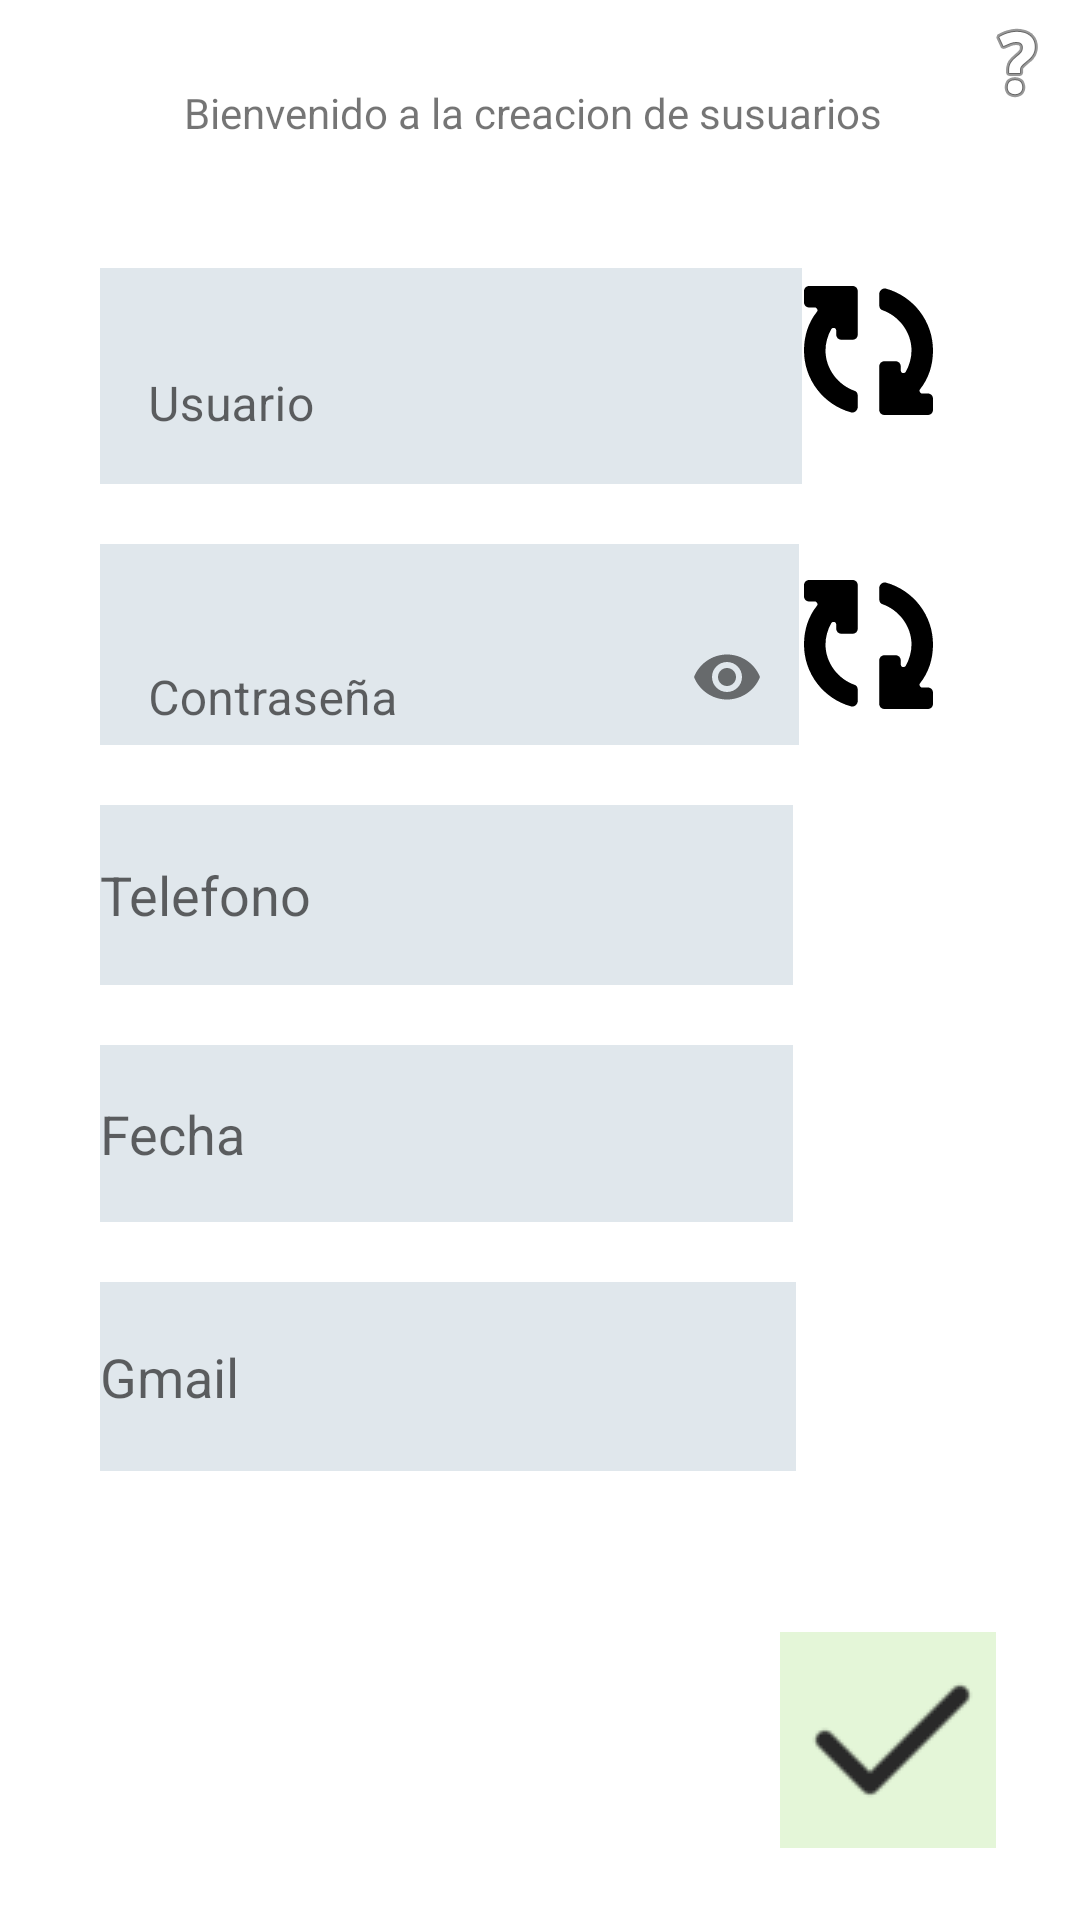

Where to tap for icons on this 1080px×1920px app screen, as (x,y):
check checked done: (888,1740)
help: (1017,63)
reload: (868,350), (868,644)
